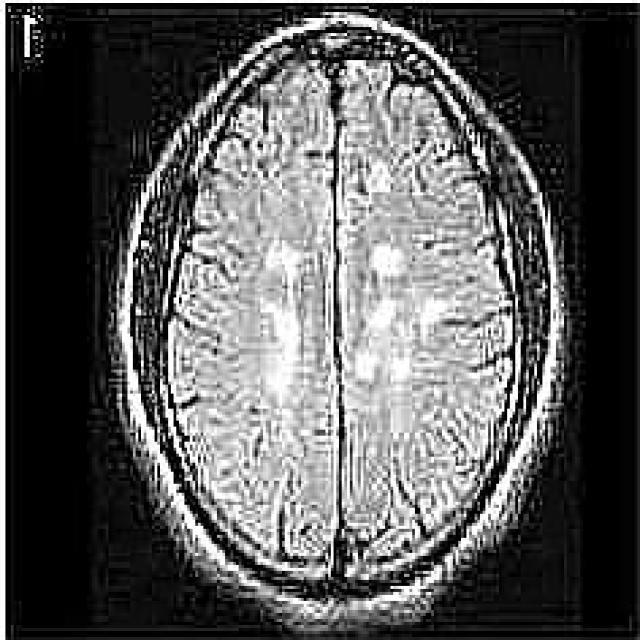notumor: (108, 21, 567, 625)
